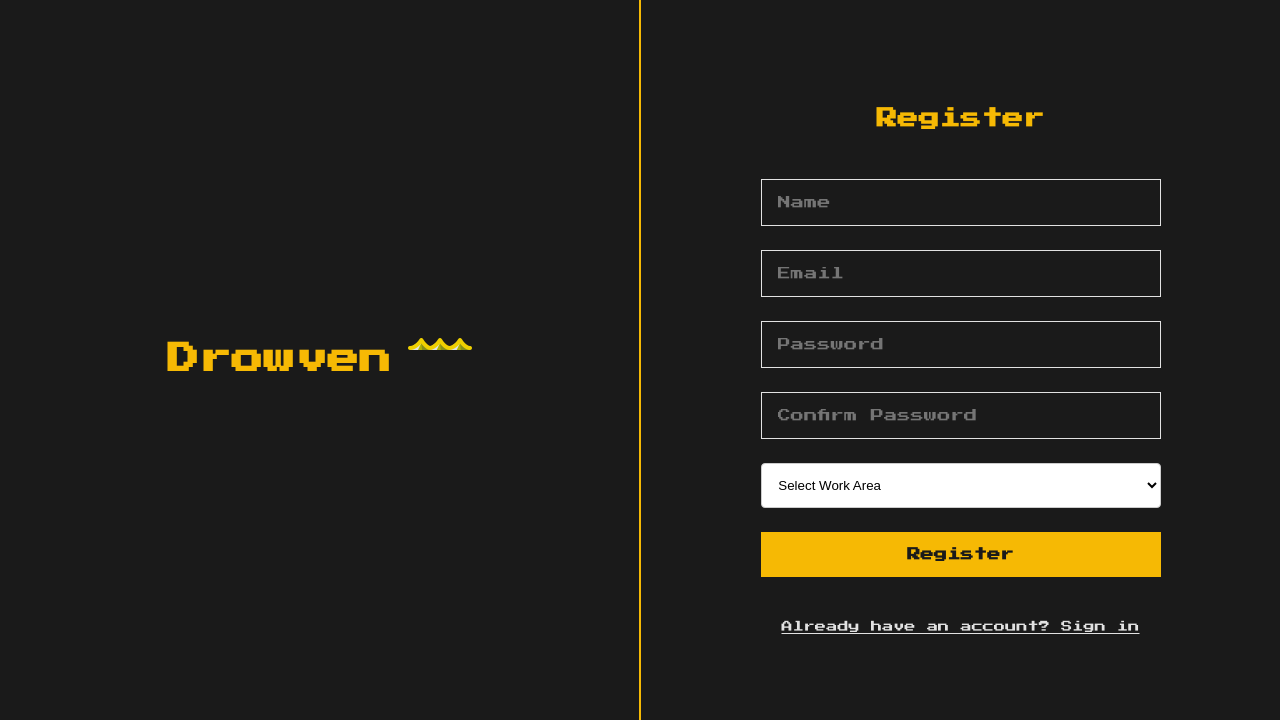
Test: Registration Component › displays validation message when passwords do not match
This screenshot has width=1280, height=720.
Step 1. Type "pass" into the password field with placeholder "Password" → x=960, y=345, box x1=760 y1=321 x2=1160 y2=368
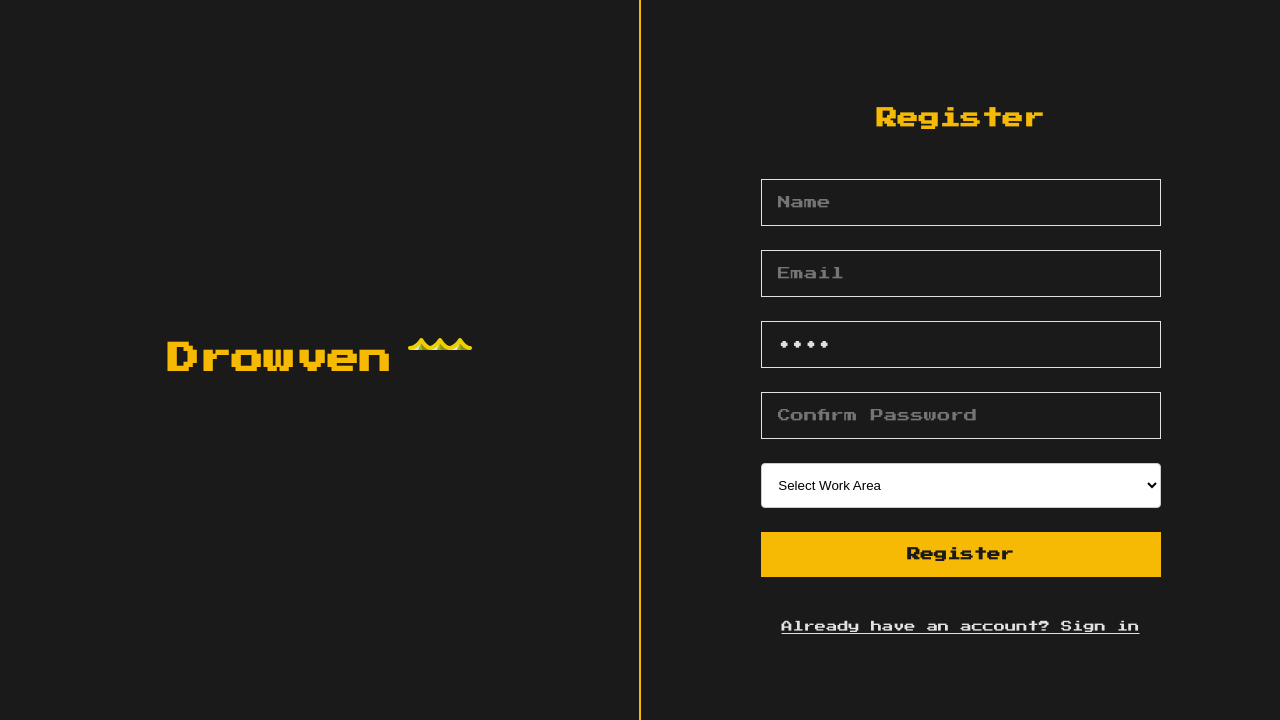
Step 2. Type "word" into the password field with placeholder "Confirm Password" → x=960, y=416, box x1=760 y1=392 x2=1160 y2=439
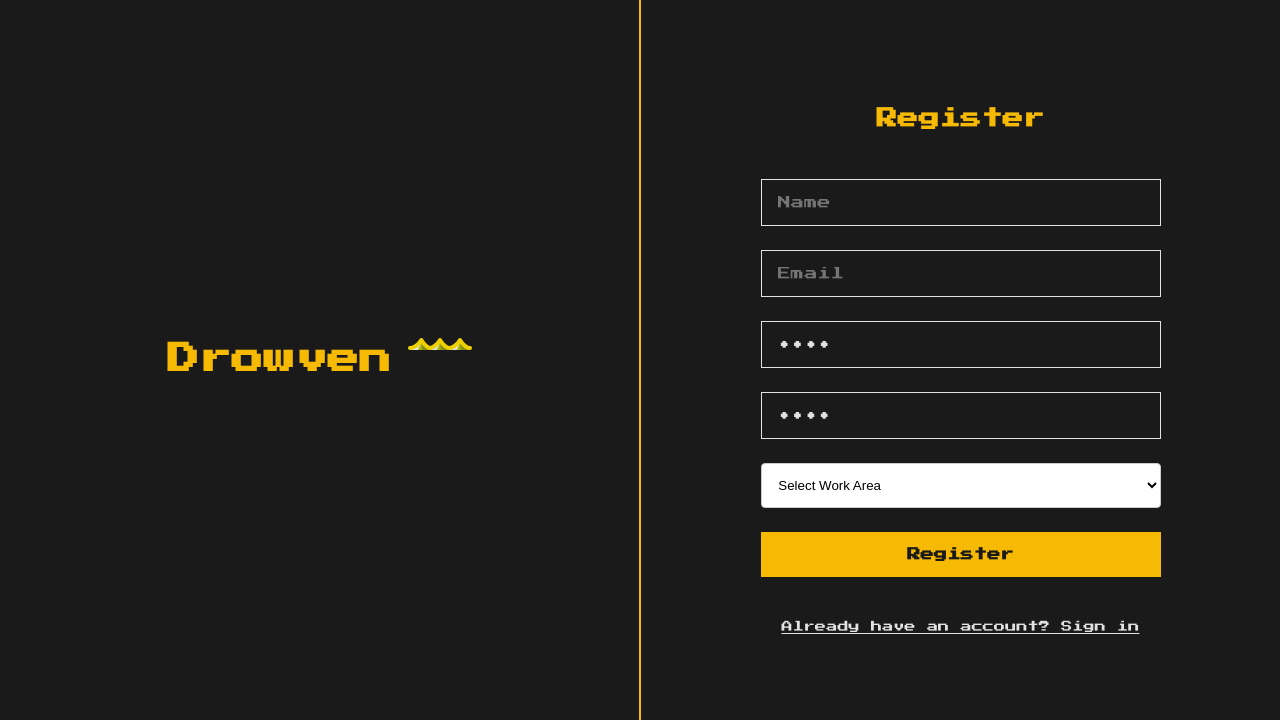
Step 3. Click the button "Register" → x=960, y=554, box x1=760 y1=532 x2=1160 y2=577
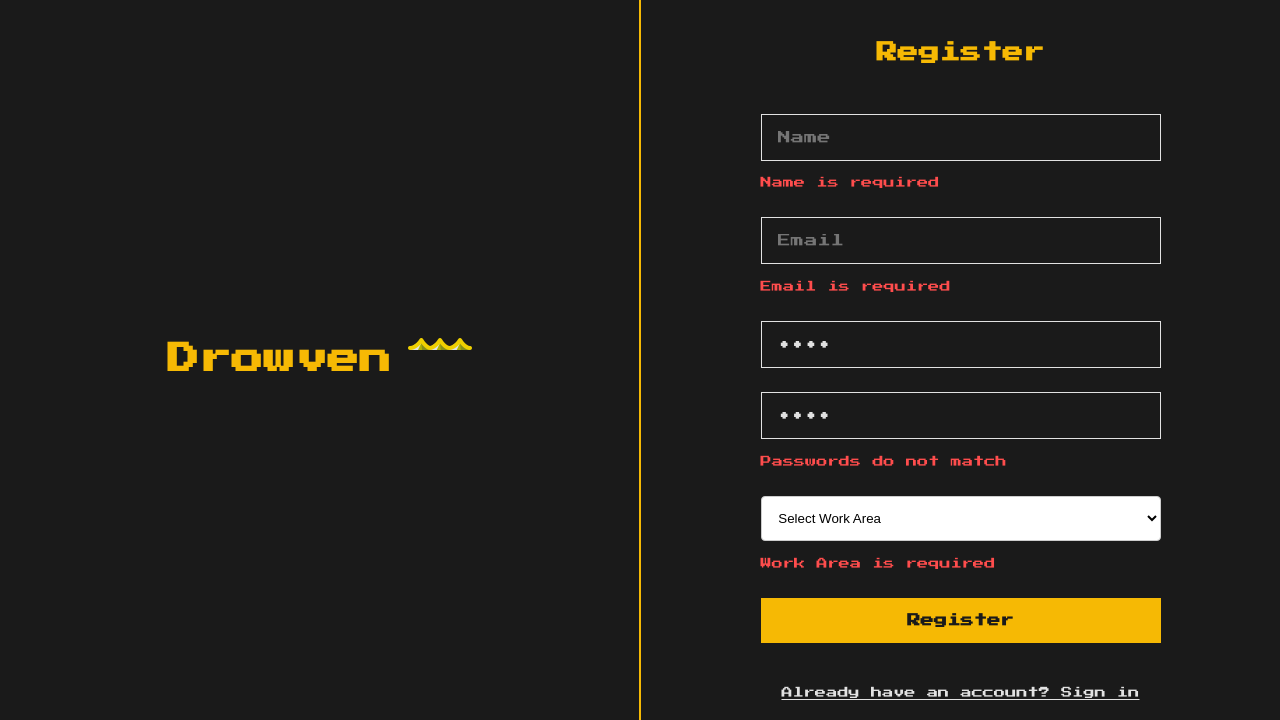
Expected: the text "Passwords do not match" is shown, x1=760 y1=456 x2=1007 y2=467
